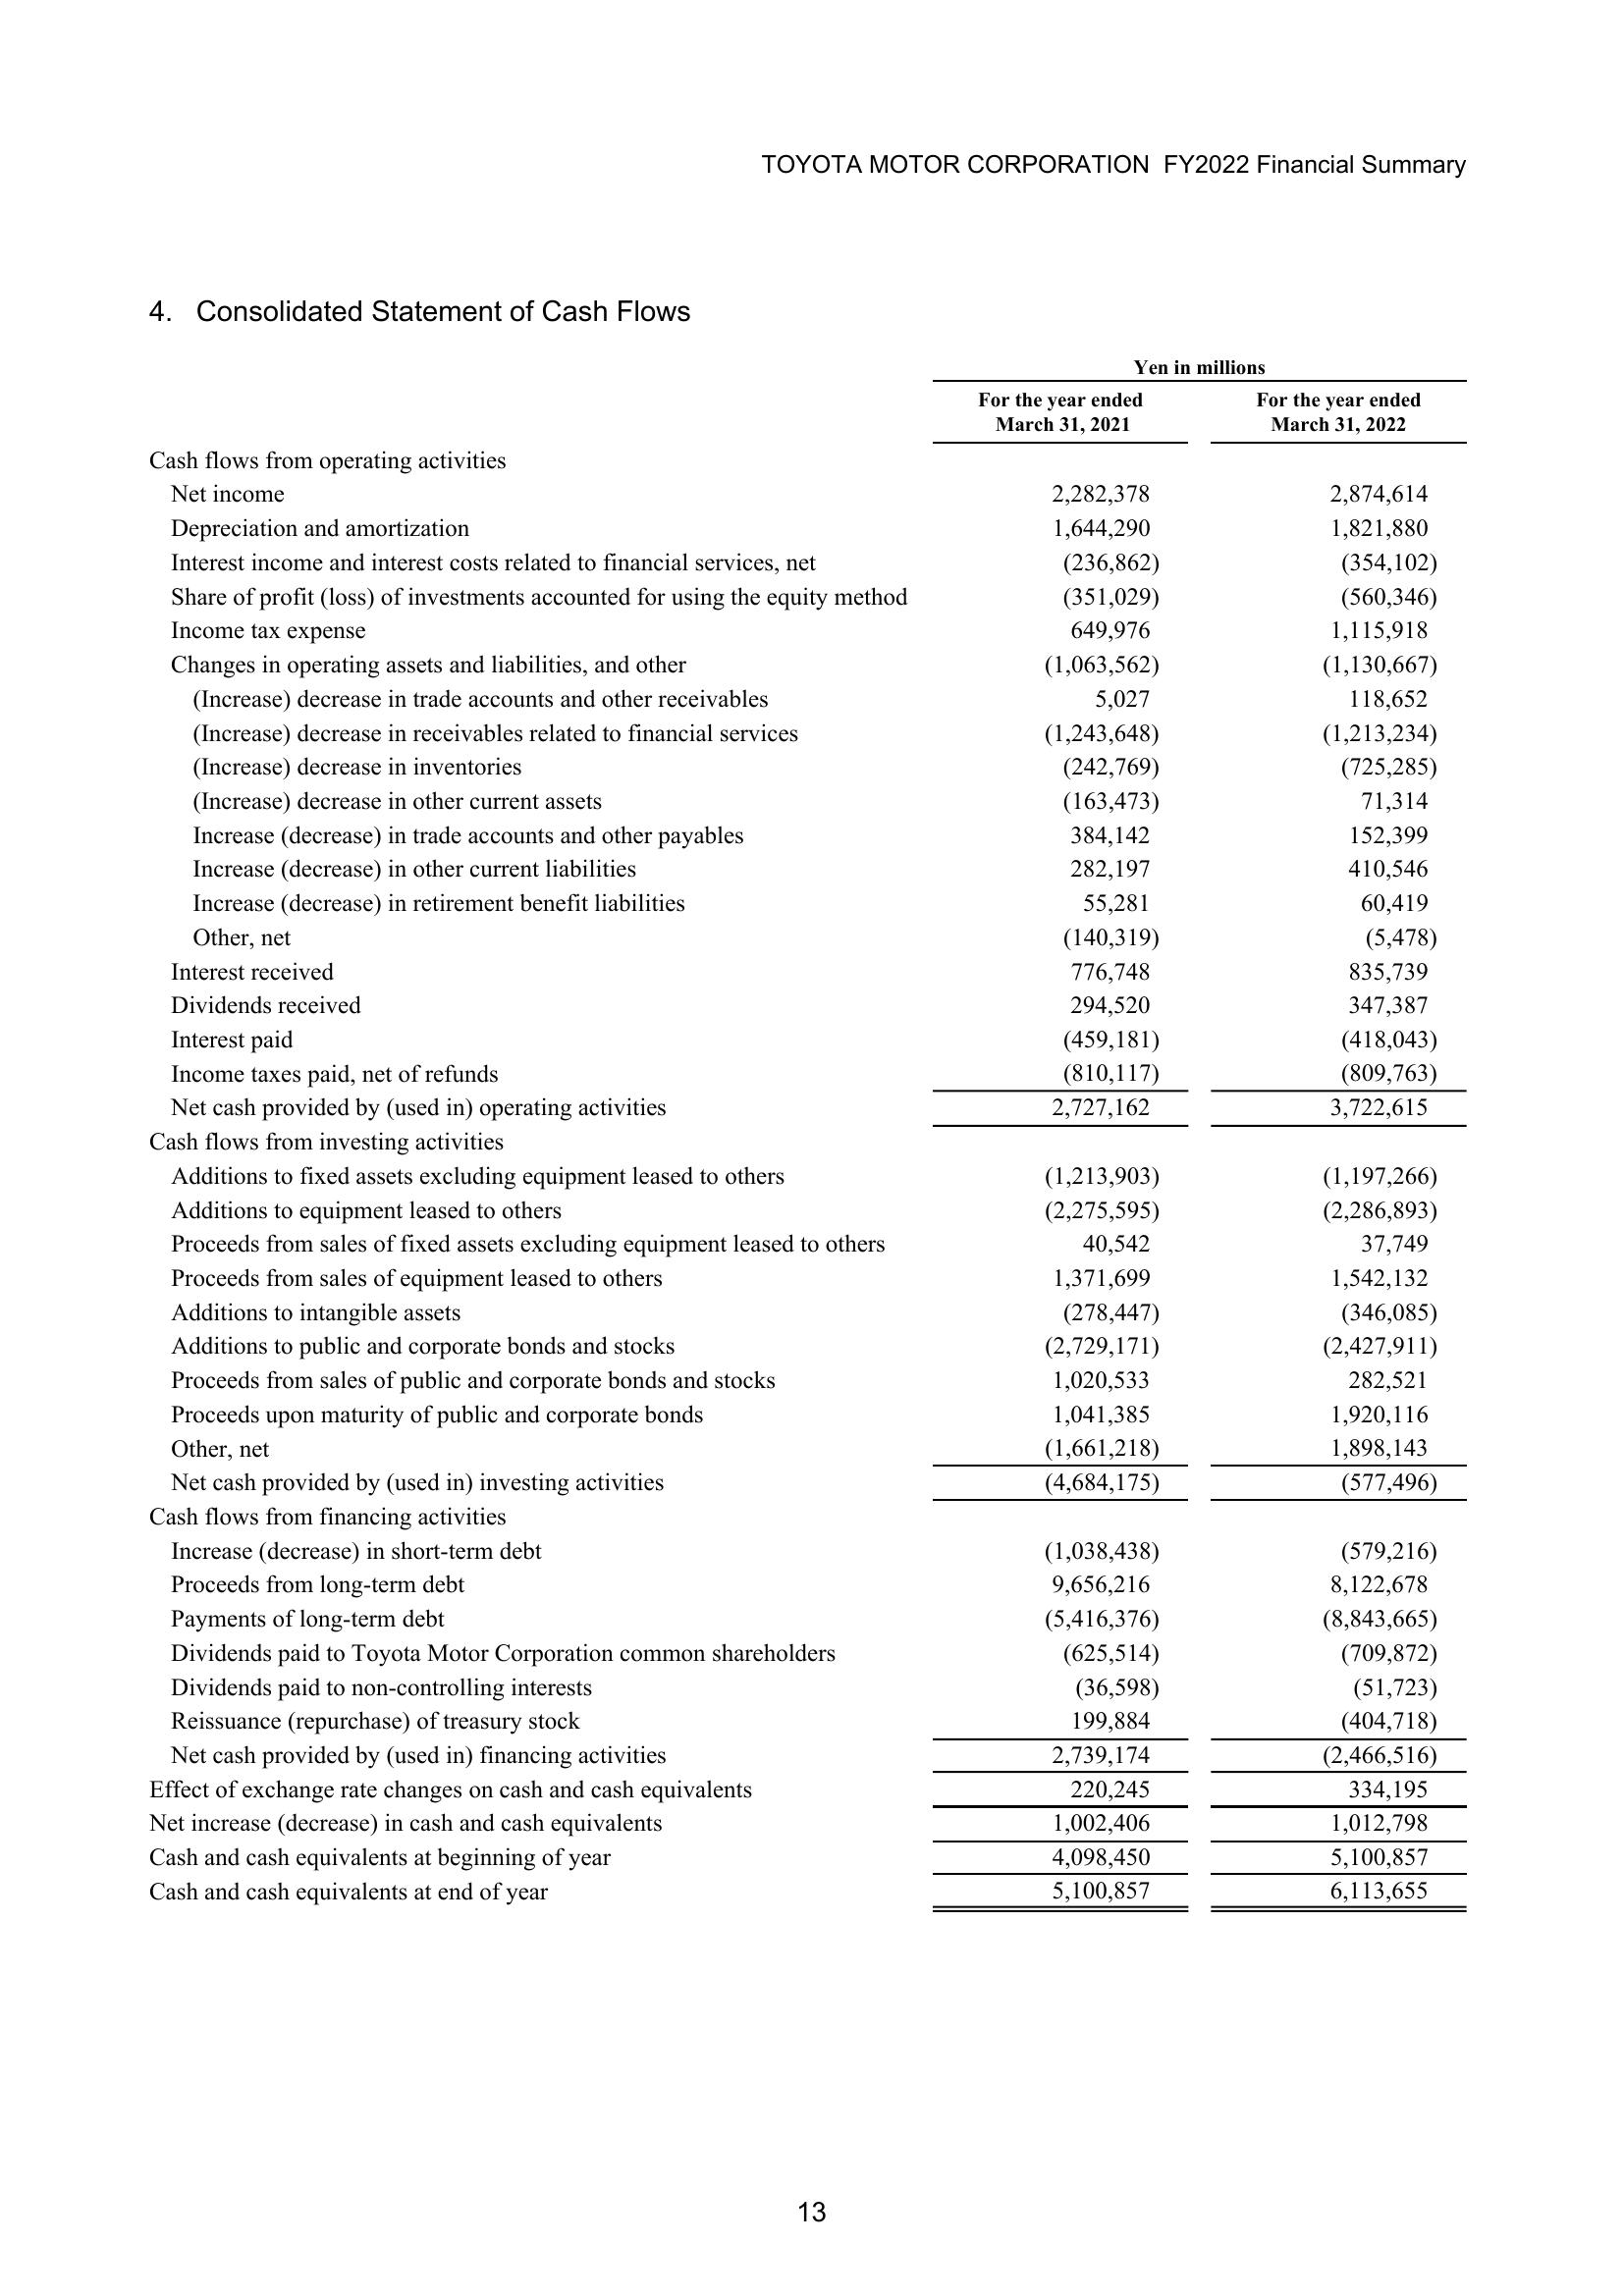Footer: (0, 2152, 1624, 2296)
Header: (0, 0, 1624, 197)
Table: (51, 336, 1475, 1938)
